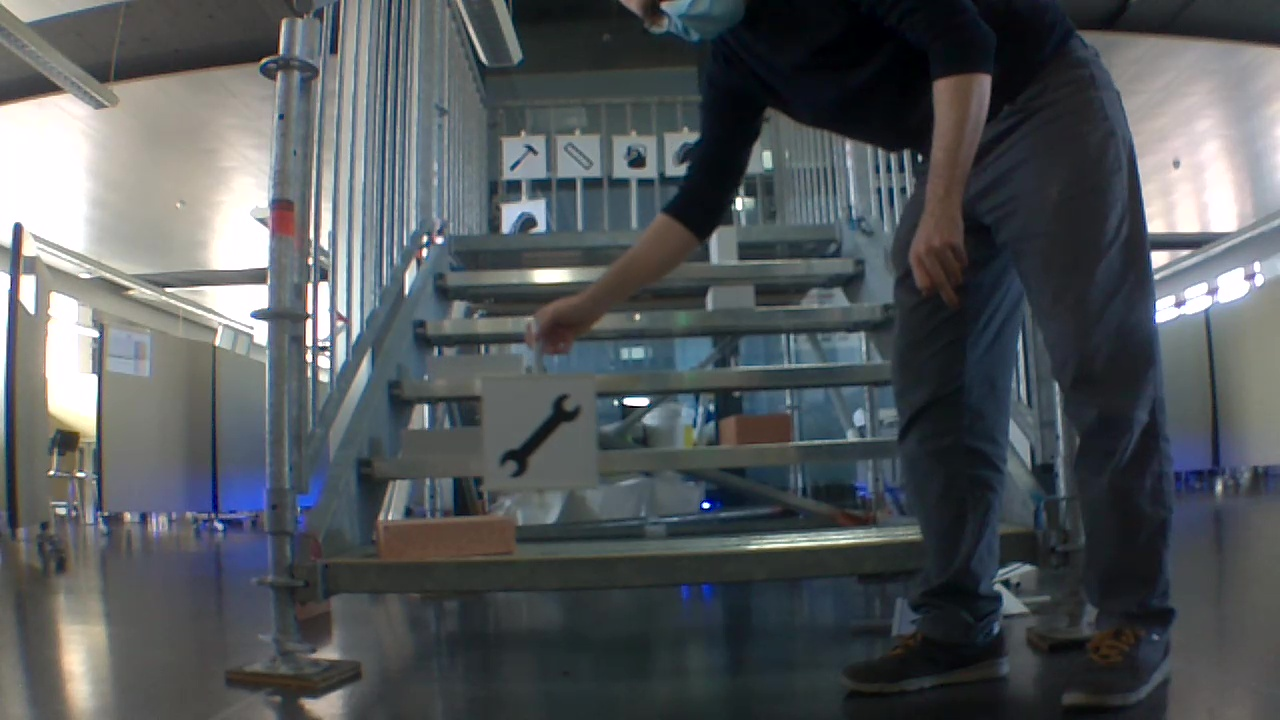brick: (374, 516, 511, 558), (428, 355, 523, 382), (404, 425, 481, 455), (719, 414, 790, 444), (703, 286, 754, 311), (712, 230, 738, 262)
bucket: (617, 142, 655, 171)
hammer: (507, 138, 542, 176)
ruler: (561, 138, 598, 176)
taco: (504, 204, 539, 231)
wrench: (491, 388, 588, 479)
